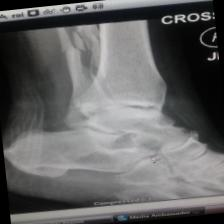spiral-fracture: (0, 0, 224, 214)
